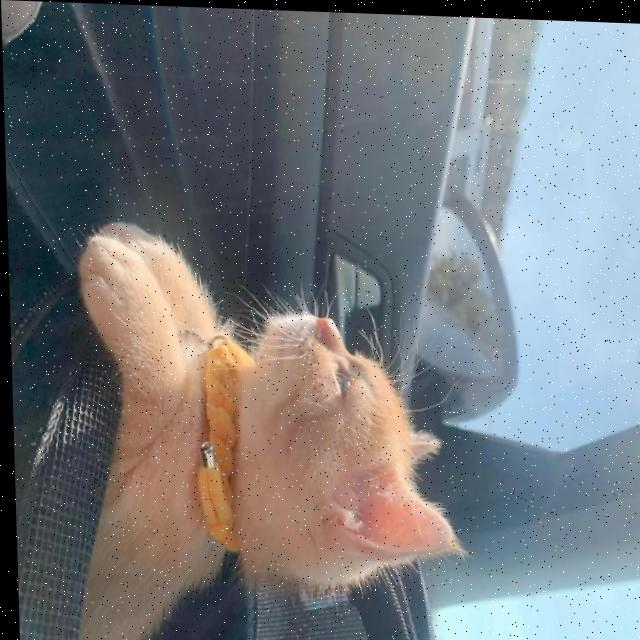Cats: (41, 201, 505, 640)
